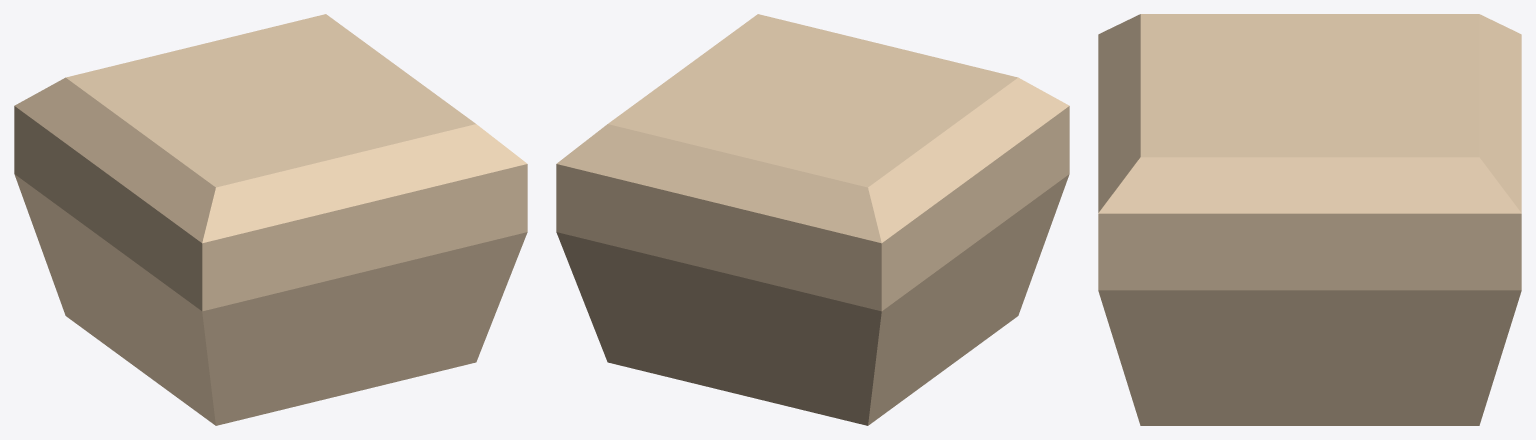
3 views of the same model, side by side, from view 1: azimuth 30°, elevation 25°; view 2: azimuth 150°, elevation 25°; view 3: azimuth 270°, elevation 25° (orthographic). The views are drawn at different scales.
Parts seen in each view (by area): view 1: object2.004; view 2: object2.004; view 3: object2.004.
Boxes of the visible parts, <box> form: object2.004: <box>14,14,527,425</box>; object2.004: <box>556,14,1069,425</box>; object2.004: <box>1098,14,1521,425</box>.
Bounding box in the file's own units: 0.5 × 0.35 × 0.5.
